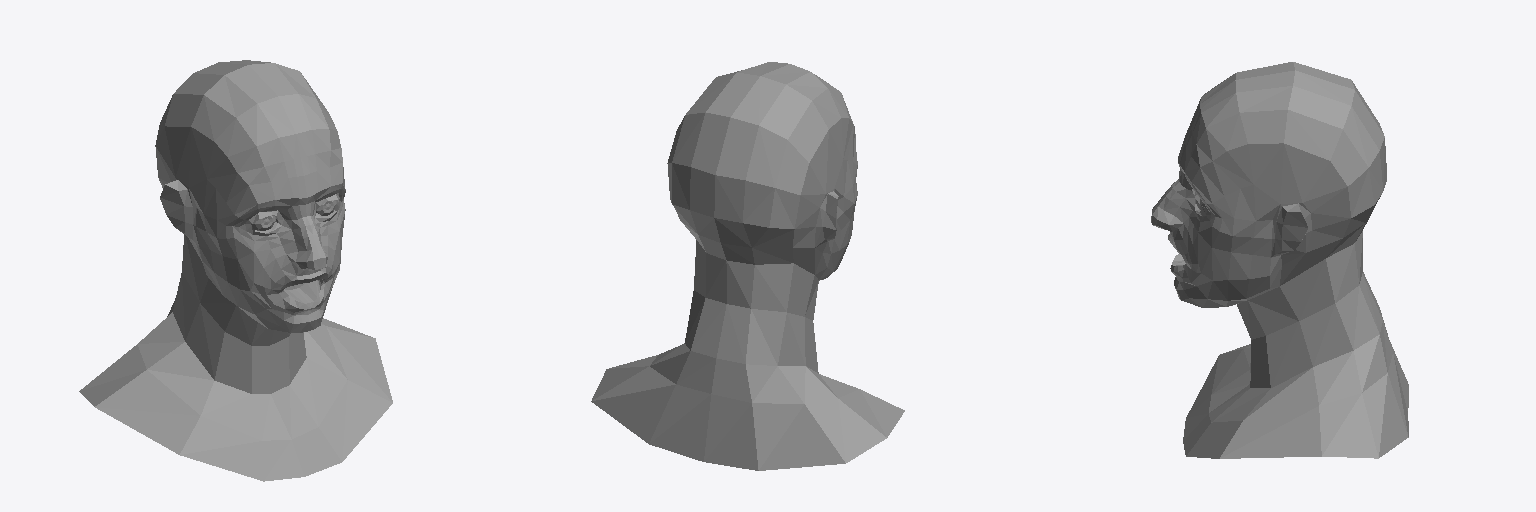
Rendered from scared.obj.
The picture shows the model from 3 angles: view 1: azimuth 30°, elevation 25°; view 2: azimuth 150°, elevation 25°; view 3: azimuth 270°, elevation 25°; orthographic projection.
Visible parts, largest first — view 1: polySurface26.003; view 2: polySurface26.003; view 3: polySurface26.003.
Part boxes in pixels (bbox=[...]): polySurface26.003: bbox=[79, 60, 392, 481]; polySurface26.003: bbox=[591, 62, 904, 470]; polySurface26.003: bbox=[1151, 62, 1408, 458].
Size of the model in its own units: 7.84 by 9.9 by 6.21.